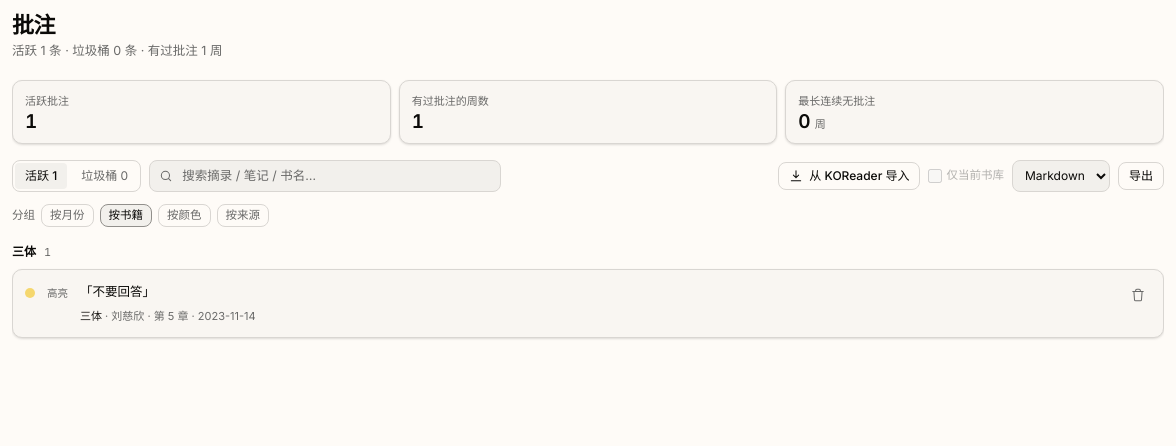
Test case: AnnotationsView 的 KOReader 导入是两步走 › 「从 KOReader 导入」只跑 dry-run（apply=false），并报出会导多少条
Click the button "从 KOReader 导入": point(849, 176) [778,162,920,190]
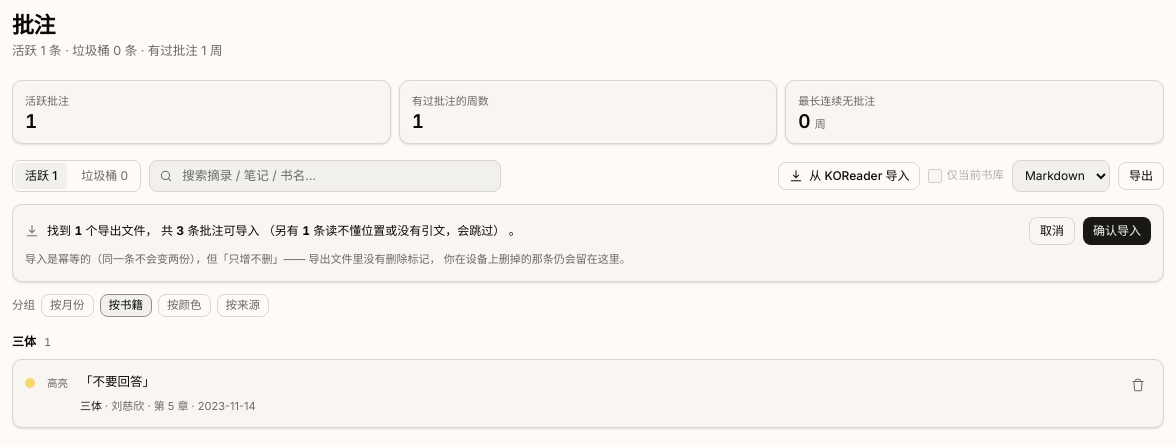
Expected: the text "3" is shown, [176,223,184,238]
Expected: the text "确认导入" is shown, [1083,217,1151,245]
